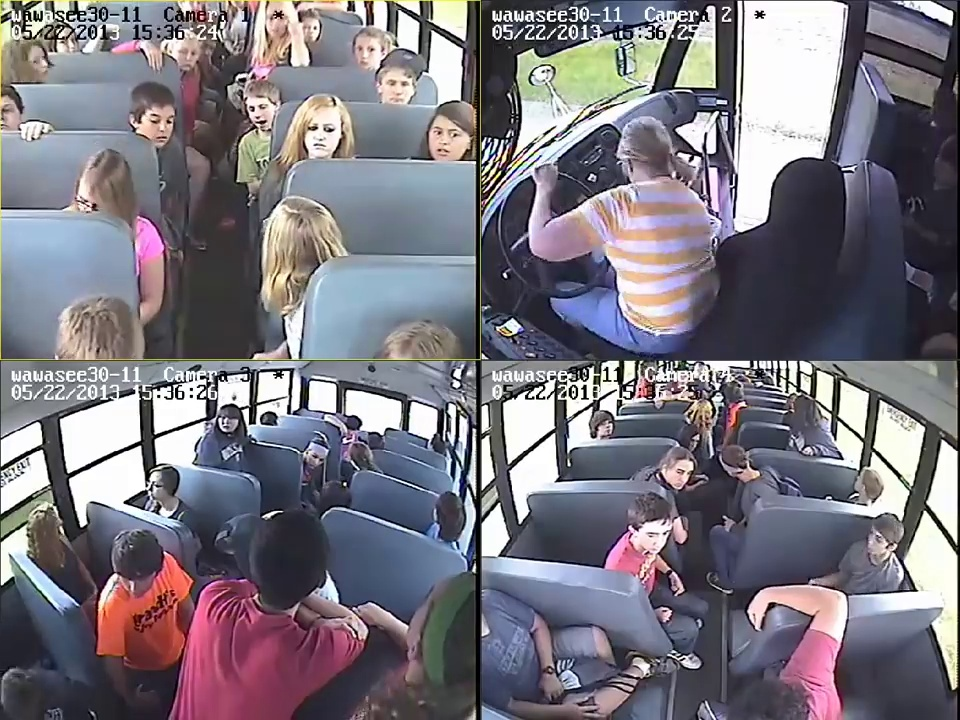face: (300, 111, 336, 156), (140, 105, 176, 148), (378, 68, 413, 103), (429, 123, 464, 156), (636, 517, 668, 553), (21, 45, 50, 81), (668, 456, 694, 488), (354, 37, 381, 67), (249, 98, 274, 129), (867, 527, 893, 555), (148, 474, 174, 502), (173, 43, 198, 70), (0, 98, 20, 131), (300, 17, 321, 43), (303, 446, 325, 469), (594, 416, 614, 435), (217, 414, 238, 432), (683, 433, 699, 450)
